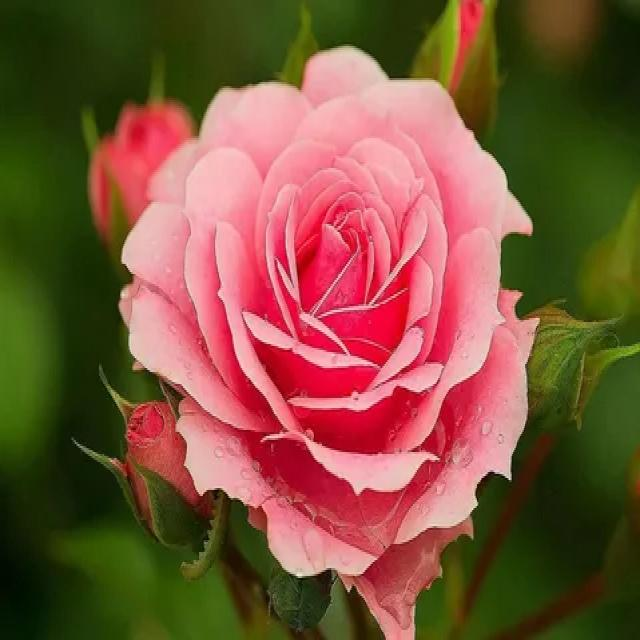rose: (108, 35, 541, 614)
